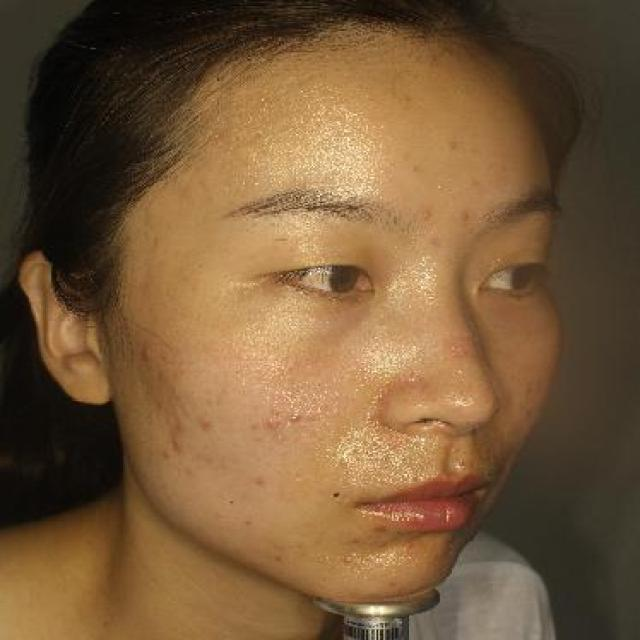nodules: (222, 497, 240, 511)
papules: (260, 412, 288, 442), (138, 343, 156, 365), (168, 434, 186, 454)
pustules: (288, 406, 304, 425)
whiteheads: (404, 158, 424, 178)
